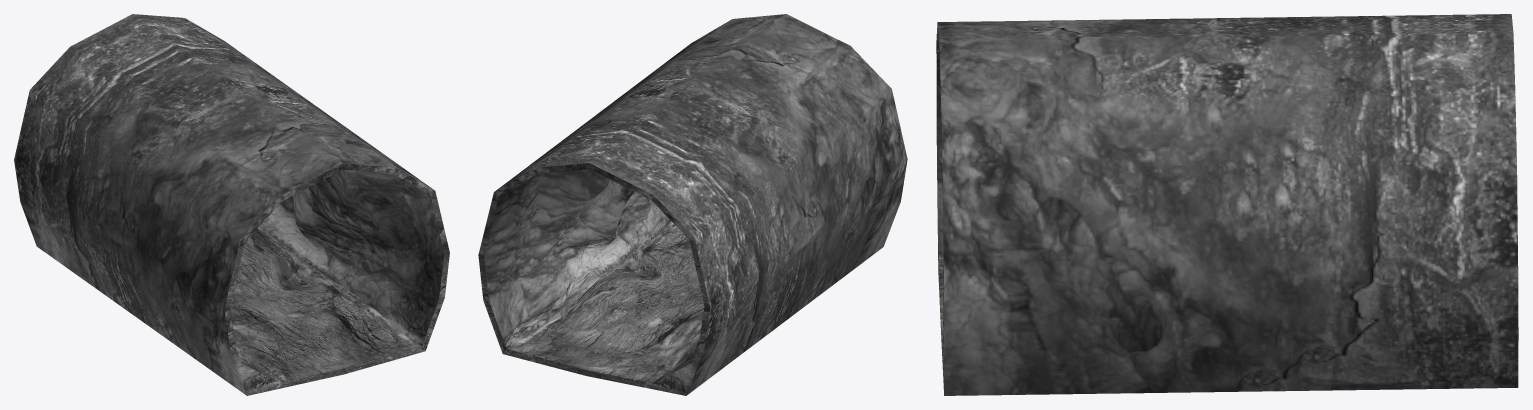
Rendered from cavecorridor4.fbx.
3 renders of one model, left to right at view 1: azimuth 30°, elevation 25°; view 2: azimuth 150°, elevation 25°; view 3: azimuth 270°, elevation 25°, orthographic. The views are drawn at different scales.
Parts seen in each view (by area): view 1: cavecorridor3; view 2: cavecorridor3; view 3: cavecorridor3.
Part boxes in pixels (x1,y1,x2,y2): cavecorridor3: (14, 14, 449, 395); cavecorridor3: (478, 14, 907, 395); cavecorridor3: (936, 14, 1518, 395).
Size of the model in its own units: 105 by 91.67 by 160.
Materials: 1 (1 with a texture image).
